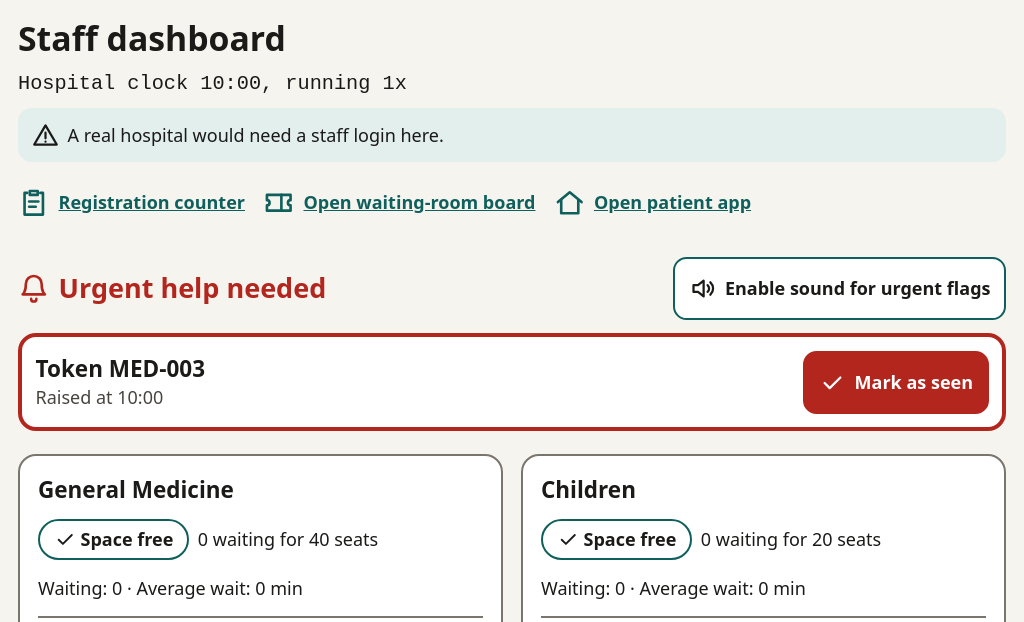
Test: staff dashboard › pins urgent flags at the top until marked seen
Expected: the message shows "Token MED-003", [36,353,205,384]
Click the button "Mark as seen": (896, 382) [803,350,988,414]
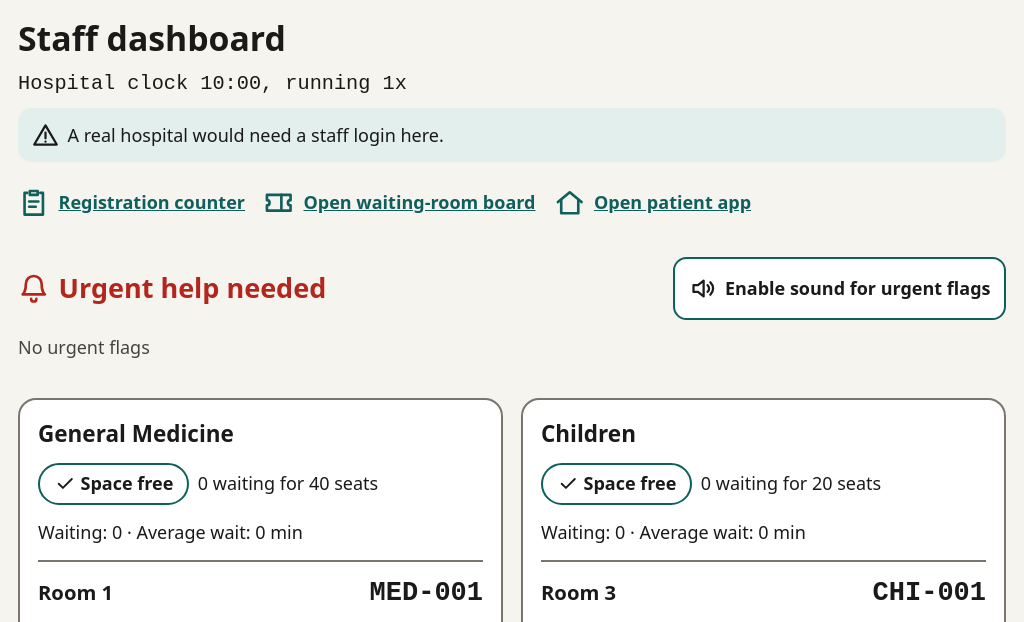
Expected: the message "Token MED-003 Raised at 10:00 Mark as seen" is gone
